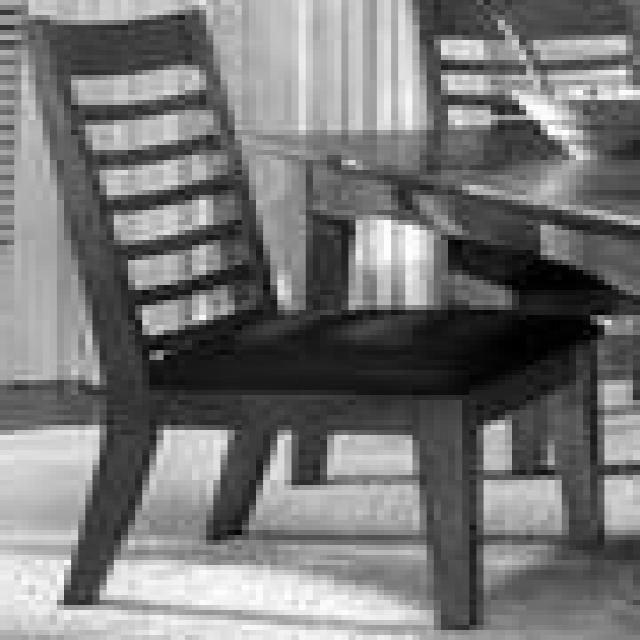chair: (20, 5, 604, 632)
